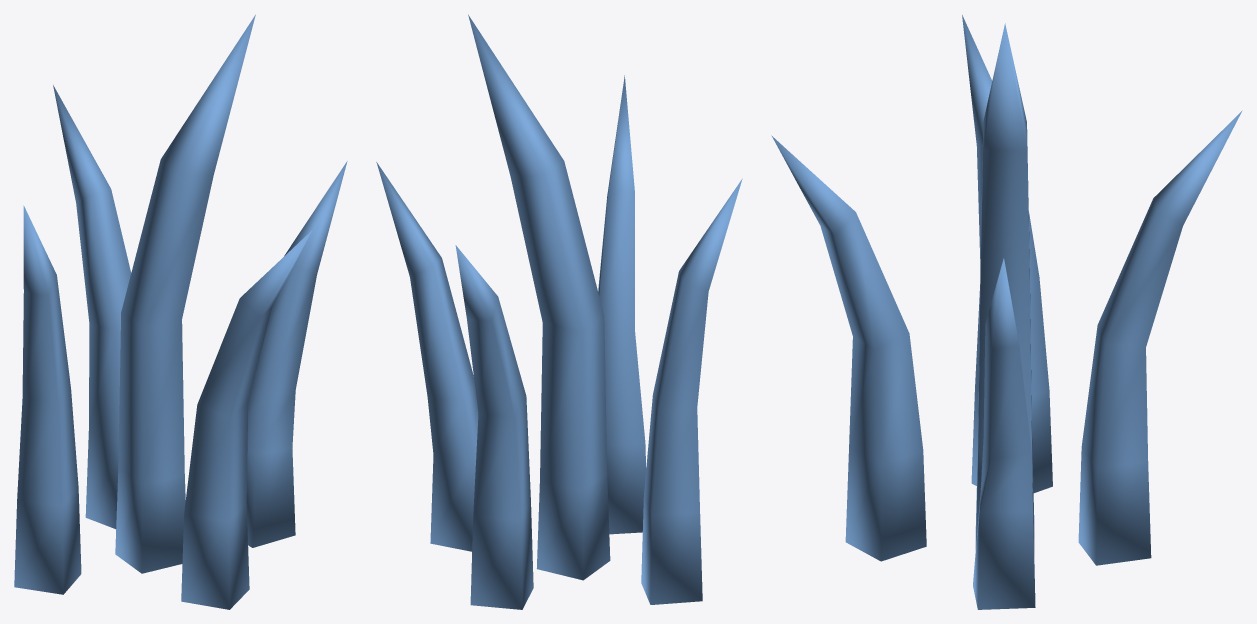
The model's file is winter-grass04.glb.
The picture shows the model from 3 angles, left to right: view 1: azimuth 30°, elevation 25°; view 2: azimuth 150°, elevation 25°; view 3: azimuth 270°, elevation 25°; orthographic projection. The views are drawn at different scales.
Parts seen in each view (by area): view 1: WinterGrass04; view 2: WinterGrass04; view 3: WinterGrass04.
Part boxes in pixels (bbox=[...]): WinterGrass04: bbox=[14, 14, 347, 609]; WinterGrass04: bbox=[376, 14, 742, 609]; WinterGrass04: bbox=[771, 15, 1242, 609].
Bounding box in the file's own units: 82.47 × 119 × 88.95.
1 material, 1 textured.
